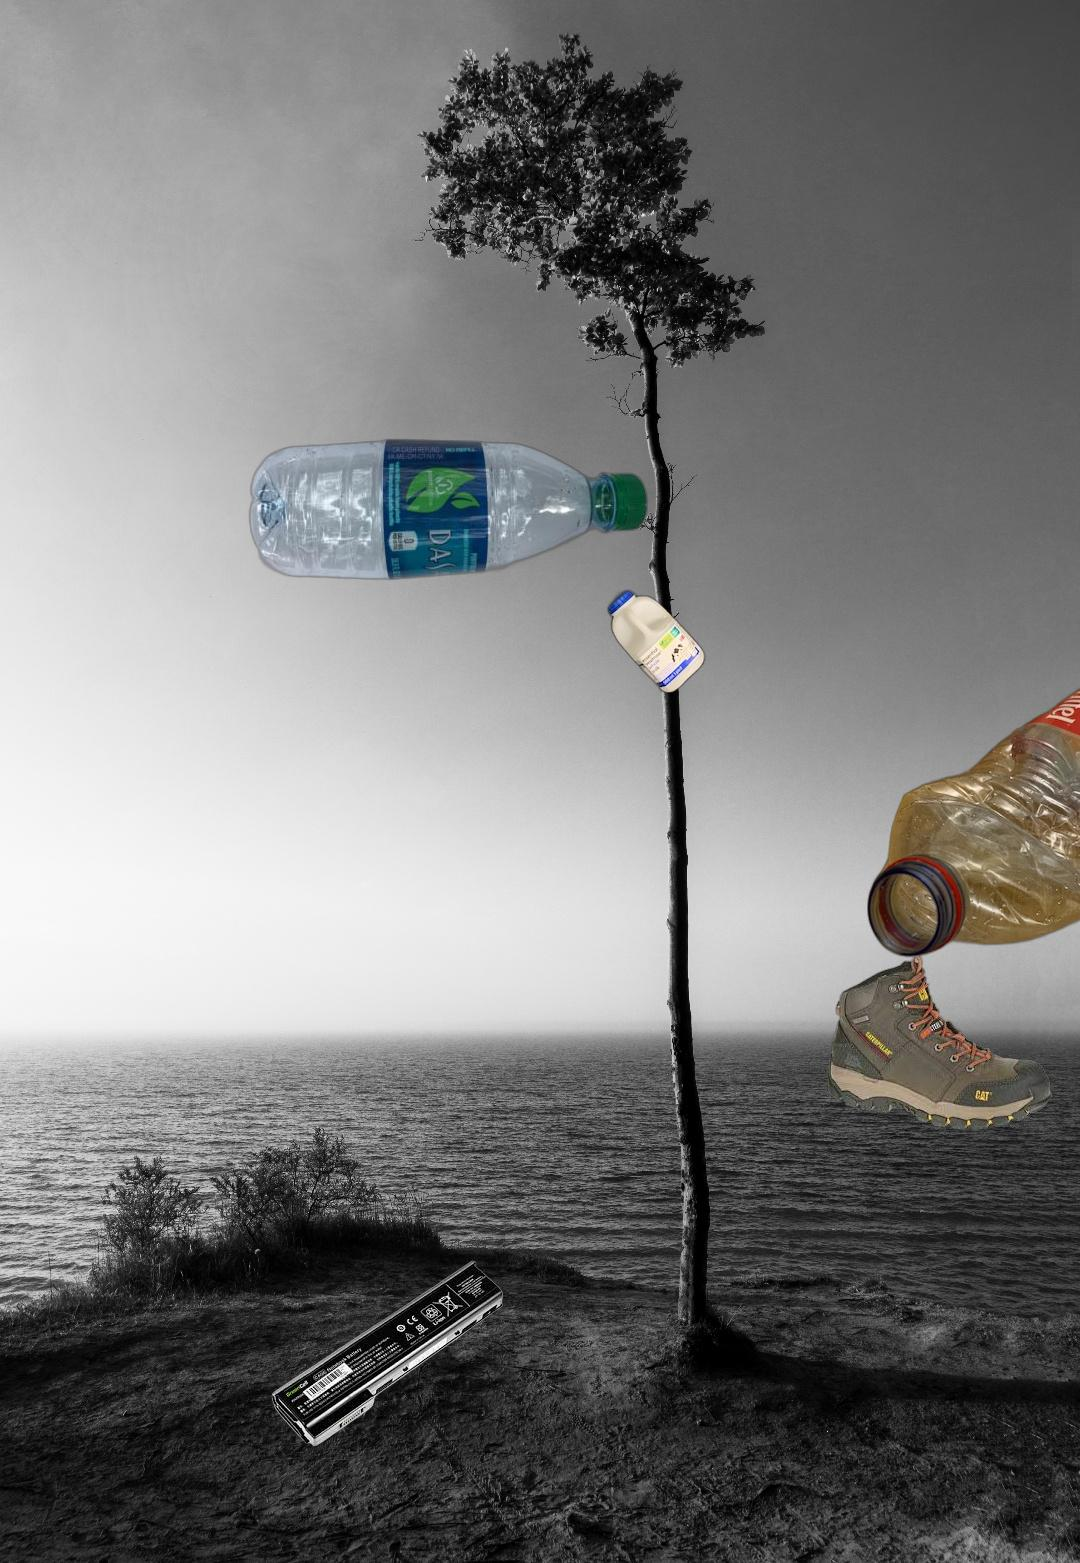battery: (269, 1258, 506, 1449)
plastic-bottles: (865, 654, 1080, 961), (245, 436, 651, 582), (604, 587, 709, 696)
shoes: (827, 953, 1051, 1133)
